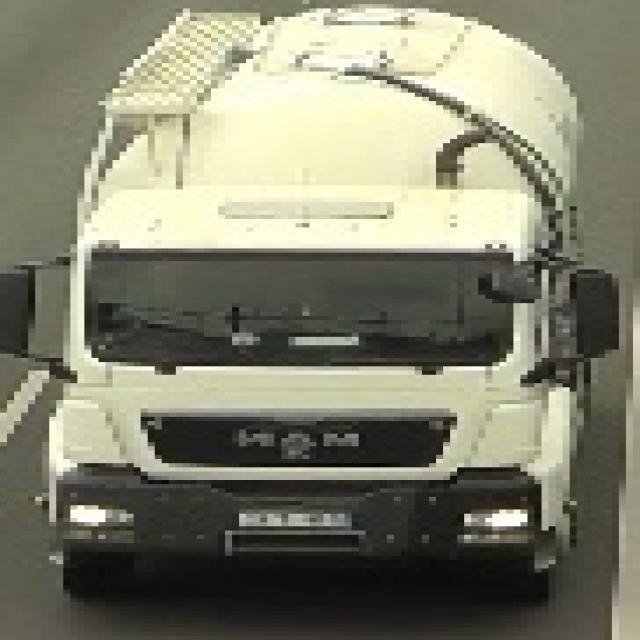truck: (0, 0, 612, 598)
